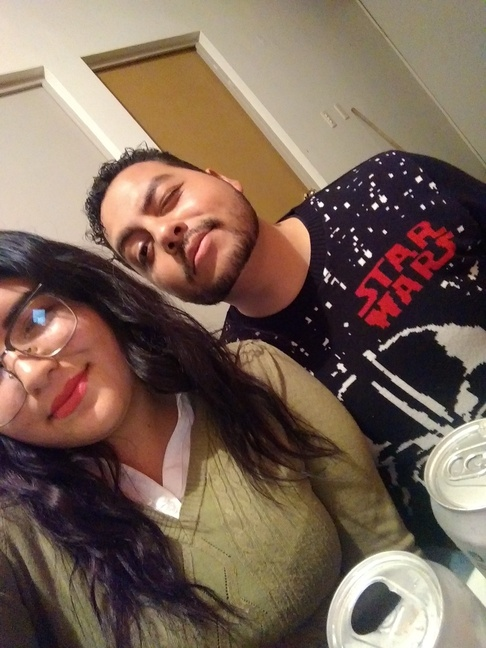Yoshi: (66, 140, 286, 301)
